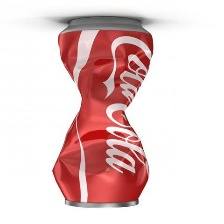can: (48, 14, 156, 210)
